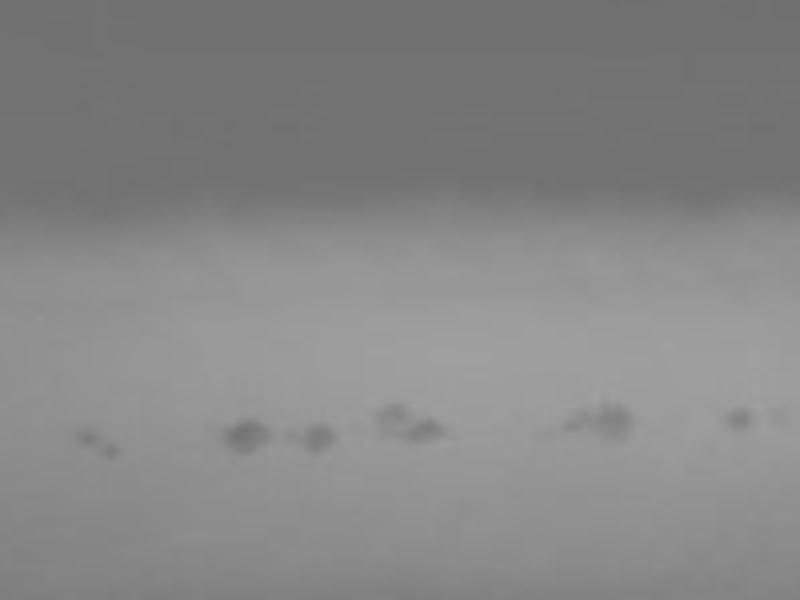defect: (592, 402, 633, 444), (225, 419, 267, 454), (297, 421, 336, 455), (402, 416, 447, 443), (373, 404, 410, 430), (719, 403, 753, 430), (563, 406, 588, 431), (76, 423, 98, 444), (97, 441, 117, 462)
